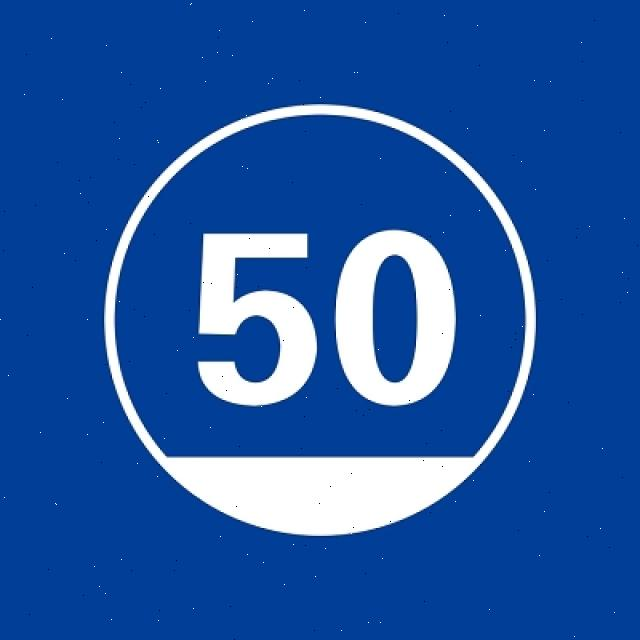speed limit 50: (102, 102, 537, 540)
